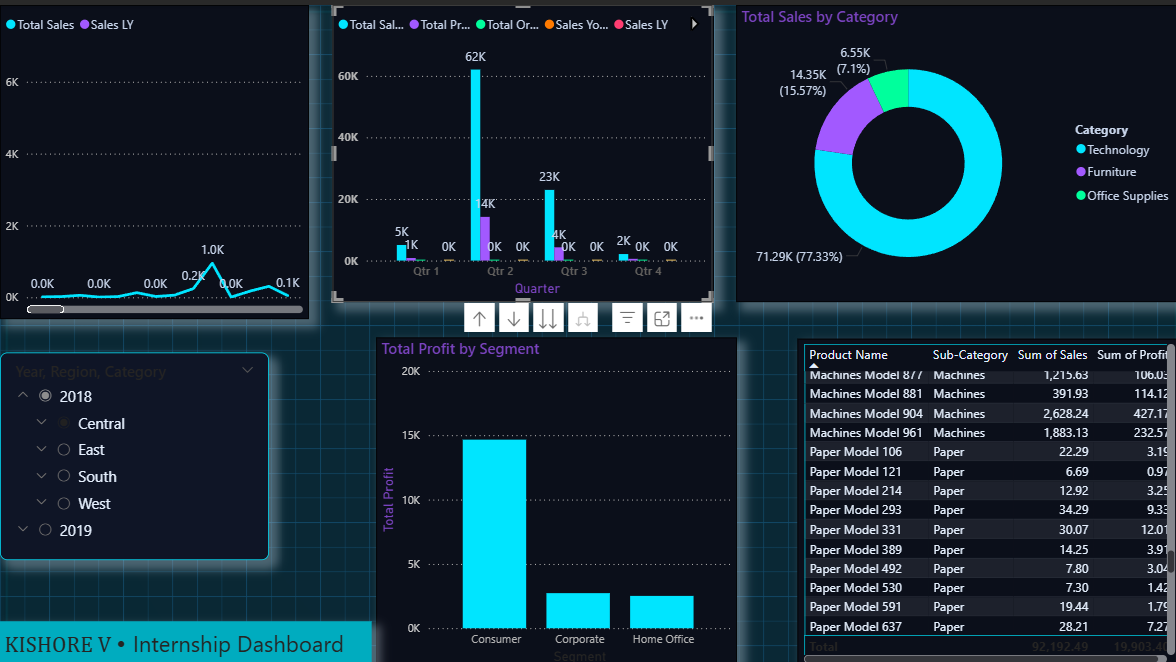

The page's visual inventory and layout, read from the dashboard file:
{"tool":"powerbi","page":{"name":"Page 1Executive Overview","canvas":[1280,720],"ordinal":0},"visuals":[{"type":"clusteredColumnChart","fields":{"Y":["Date.Total Sales","Date.Total Profit","Date.Total Orders","Date.Sales YoY %","Date.Sales LY","Date.Profit Margin %"],"Category":["superstore_mini.Date.Variation.Date Hierarchy.Year","superstore_mini.Date.Variation.Date Hierarchy.Quarter","superstore_mini.Date.Variation.Date Hierarchy.Month","superstore_mini.Date.Variation.Date Hierarchy.Day"]},"box":[359.5,0,412.5,321.6],"z":0},{"type":"lineChart","fields":{"Y":["Date.Total Sales","Date.Sales LY"],"Category":["superstore_mini.Date.Variation.Date Hierarchy.Year","superstore_mini.Date.Variation.Date Hierarchy.Quarter","superstore_mini.Date.Variation.Date Hierarchy.Month","superstore_mini.Date.Variation.Date Hierarchy.Day"]},"box":[0,0,334.3,339.7],"z":1000},{"type":"donutChart","fields":{"Category":["superstore_mini.Category"],"Y":["Date.Total Sales"]},"box":[797,0,483.3,321.6],"z":2000},{"type":"columnChart","fields":{"Category":["superstore_mini.Segment"],"Y":["Date.Total Profit"]},"box":[407.1,360,390,360],"z":3000},{"type":"tableEx","fields":{"Values":["superstore_mini.Product Name","superstore_mini.Sub-Category","Sum(superstore_mini.Sales)","Sum(superstore_mini.Profit)"]},"box":[863.7,361.7,415.2,357.3],"z":4000},{"type":"slicer","fields":{"Values":["superstore_mini.Ship Date.Variation.Date Hierarchy.Year","superstore_mini.Region","superstore_mini.Category"]},"box":[0,376,290.9,225],"z":5000},{"type":"textbox","box":[0,666.9,402.1,53.5],"z":6000}]}

Visuals, with their boxes in screenshot pixels (x1, y1, x2, y2), scaled from the page's 1280x720 canvas onto the 1176x662 screenshot:
clusteredColumnChart - Date.Total Sales x Date.Total Profit: 330/0/709/296
lineChart - Date.Total Sales x Date.Sales LY: 0/0/307/312
donutChart - superstore_mini.Category x Date.Total Sales: 732/0/1175/296
columnChart - superstore_mini.Segment x Date.Total Profit: 374/331/732/661
tableEx - superstore_mini.Product Name x superstore_mini.Sub-Category: 794/333/1175/661
slicer - superstore_mini.Ship Date.Variation.Date Hierarchy.Year x superstore_mini.Region: 0/346/267/553
textbox: 0/613/369/661
